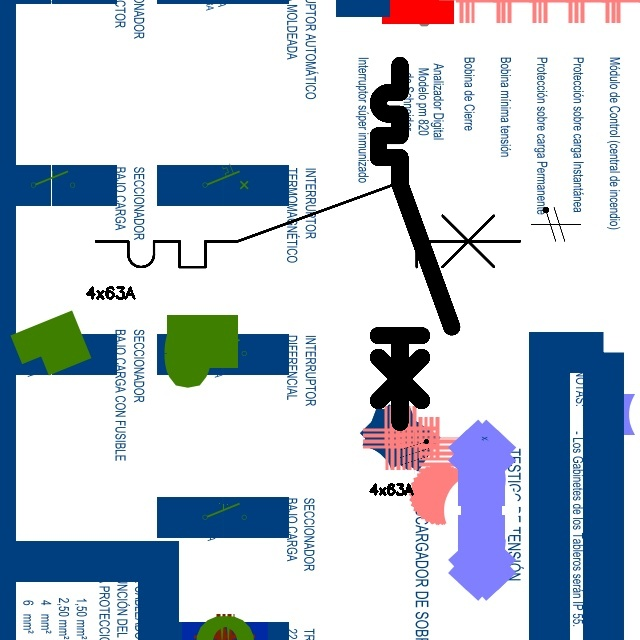interruptor_termomagnetico: (85, 169, 530, 278), (369, 56, 461, 431)
